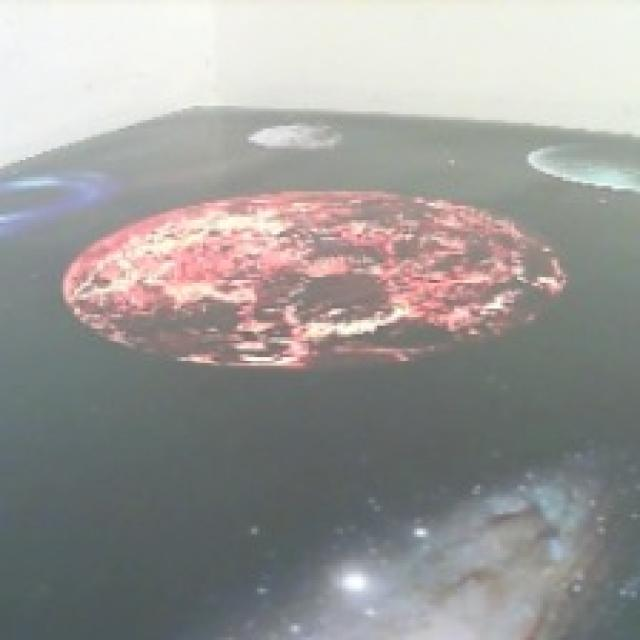Asteroid: (247, 114, 346, 156)
Black Hole: (0, 164, 114, 237)
Earth: (527, 138, 640, 193)
Sun: (61, 187, 568, 372)
